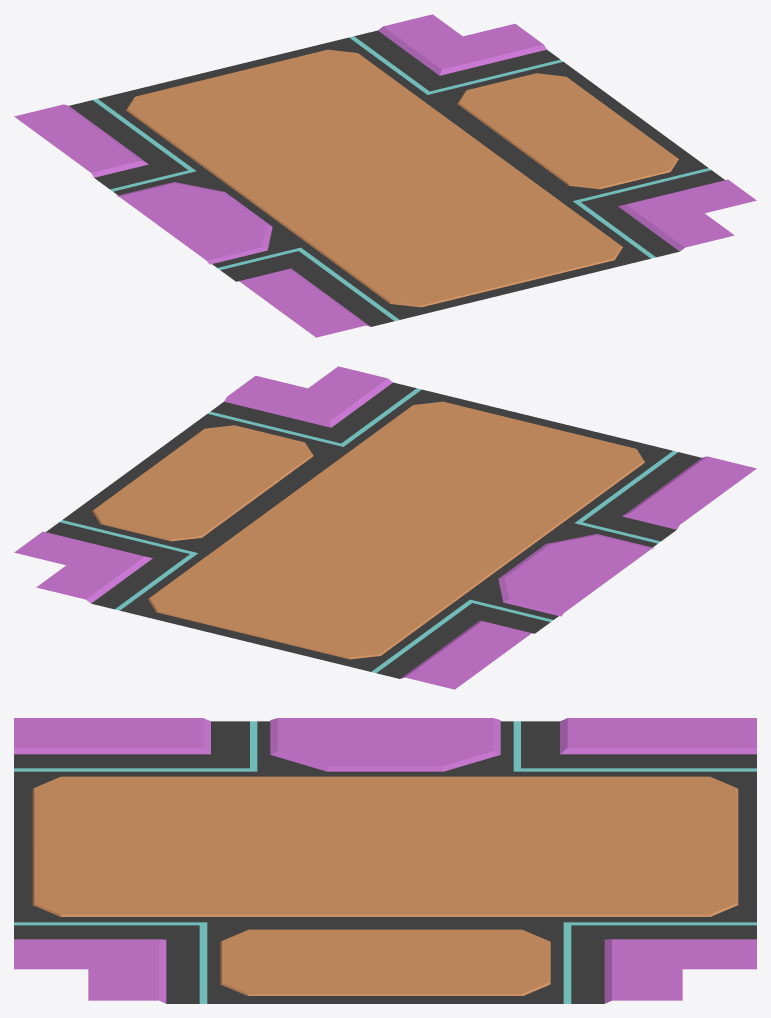
Rendered from HallFloorIntersection.fbx.
3 views of the same model, one above another, from view 1: azimuth 30°, elevation 25°; view 2: azimuth 150°, elevation 25°; view 3: azimuth 270°, elevation 25° (orthographic). The views are drawn at different scales.
Parts seen in each view (by area): view 1: HallFloorIntersection; view 2: HallFloorIntersection; view 3: HallFloorIntersection.
Boxes of the visible parts, x1,y1,x2,y2 form: HallFloorIntersection: (14,14,756,337); HallFloorIntersection: (14,366,756,689); HallFloorIntersection: (14,718,756,1003).
Bounding box in the file's own units: 9.04 × 0.0505 × 10.
